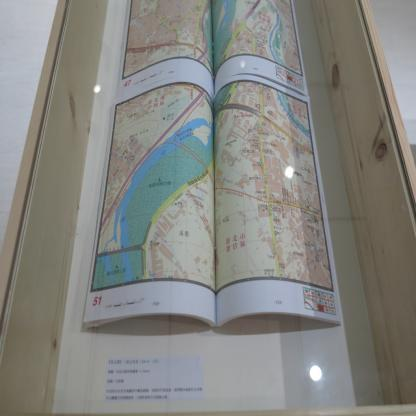book: (83, 95, 343, 324), (116, 0, 310, 98)
